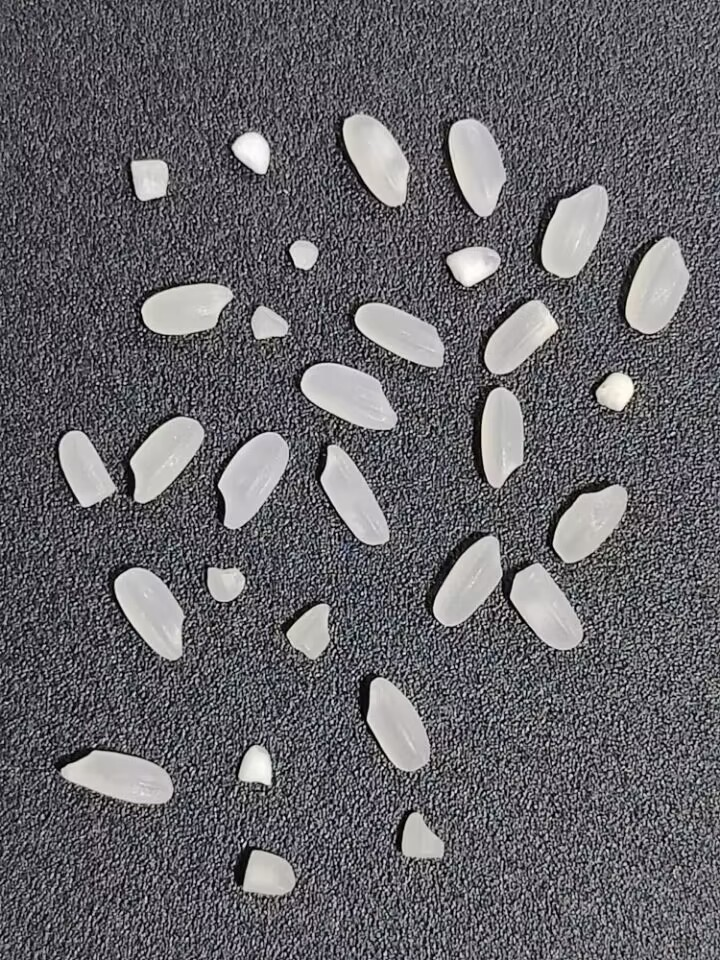broken: (57, 429, 118, 508), (439, 242, 508, 292), (121, 151, 176, 210), (237, 847, 297, 900), (396, 806, 449, 863), (285, 601, 332, 660), (229, 740, 282, 790), (228, 130, 279, 178), (591, 368, 641, 414), (245, 298, 292, 346), (284, 233, 320, 272), (206, 566, 245, 602)
rice: (538, 181, 615, 279), (319, 443, 390, 548), (215, 430, 287, 531), (127, 415, 207, 505), (113, 566, 187, 661), (430, 534, 504, 628), (623, 234, 691, 336), (340, 111, 412, 207), (509, 562, 585, 651), (301, 362, 399, 431), (134, 275, 239, 338), (552, 483, 633, 564), (366, 675, 433, 772), (444, 116, 506, 219), (60, 750, 174, 805), (354, 302, 446, 369), (483, 298, 558, 375), (478, 384, 527, 492)
